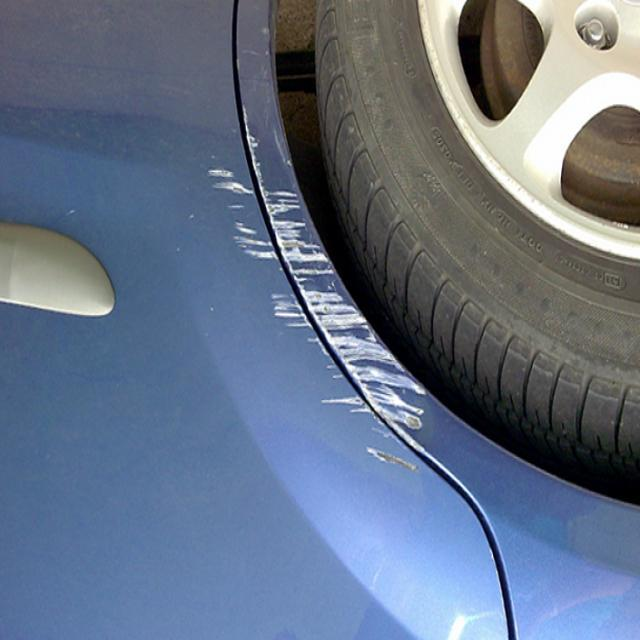scratch: (194, 117, 431, 480)
